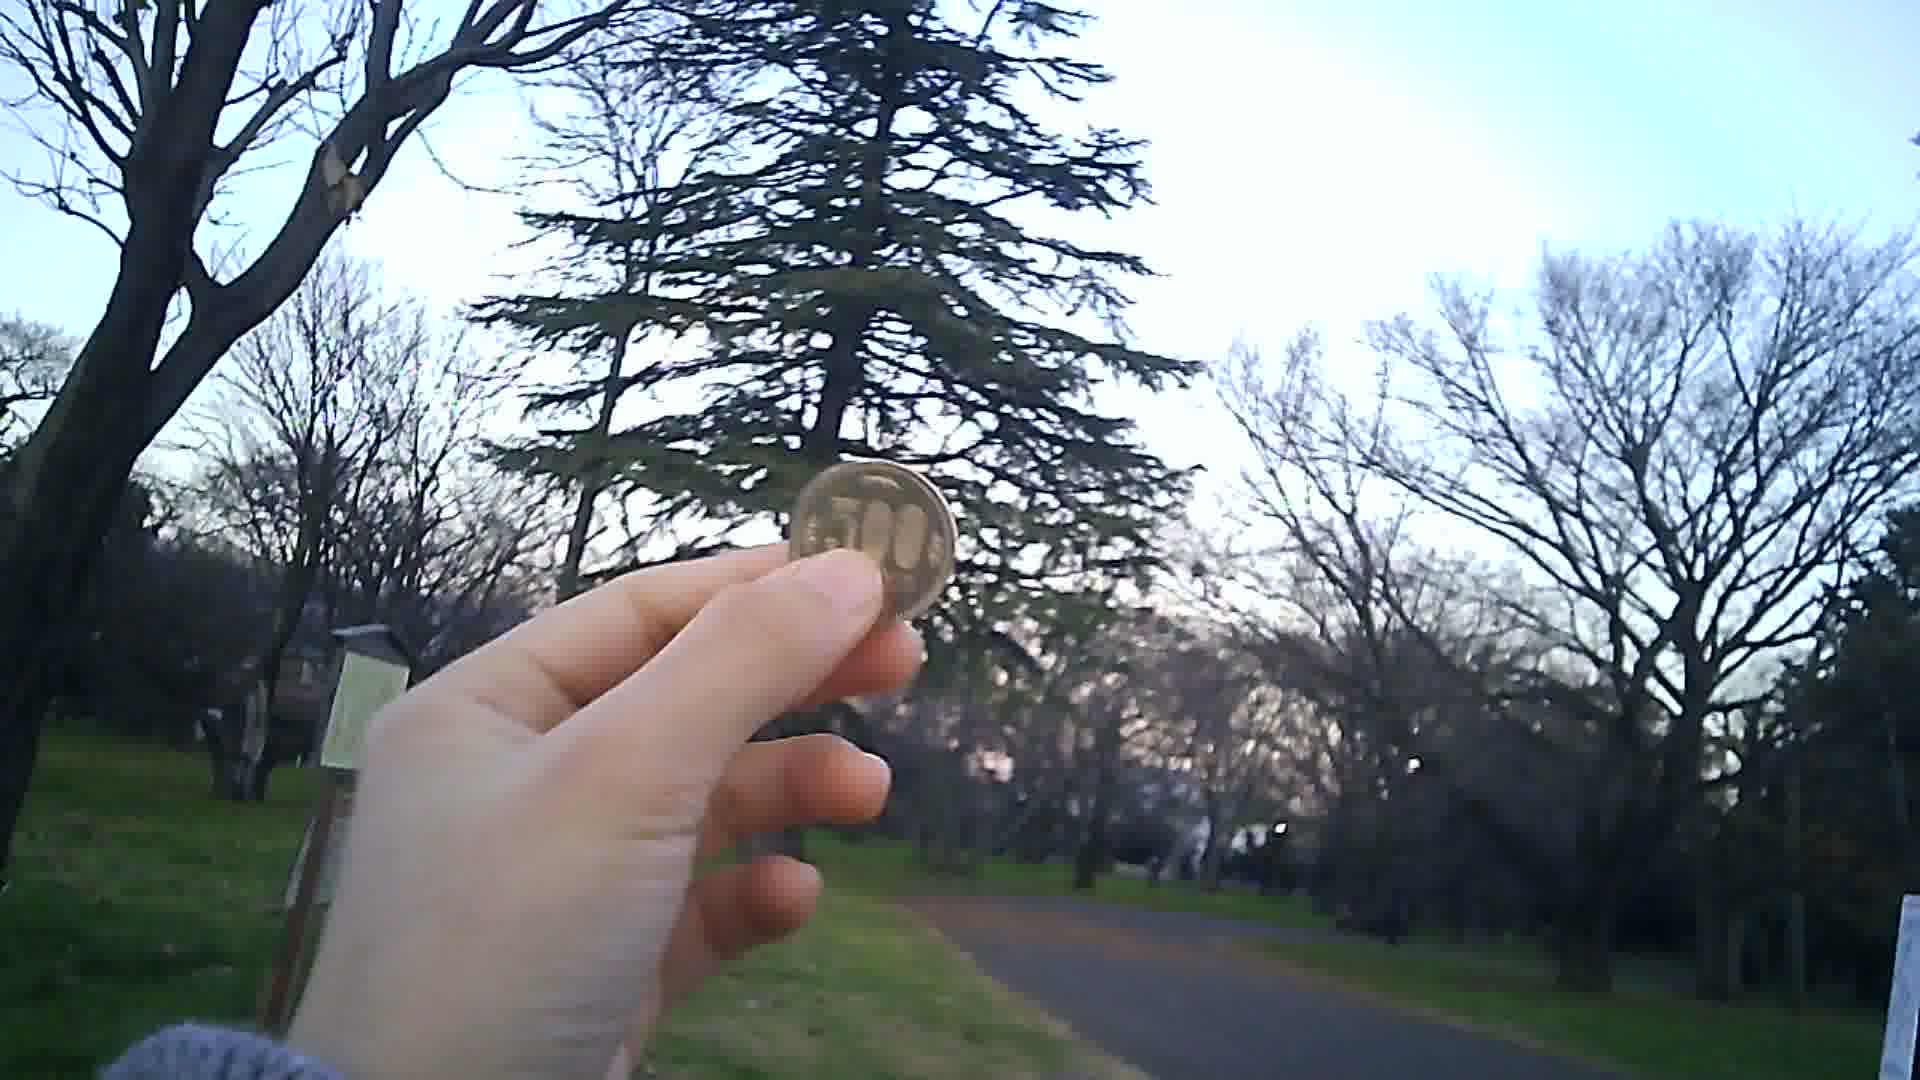500 Yen: (787, 450, 960, 626)
